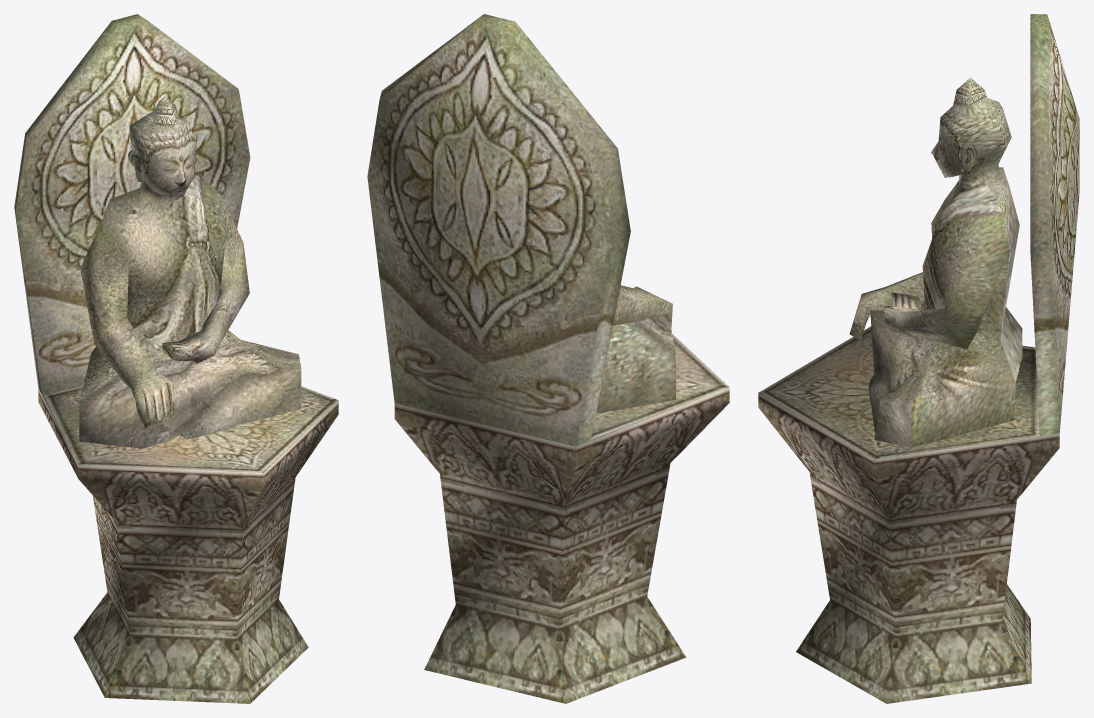
File: buddha.glb
3 views of the same model, side by side, from view 1: azimuth 30°, elevation 25°; view 2: azimuth 150°, elevation 25°; view 3: azimuth 270°, elevation 25° (orthographic). The views are drawn at different scales.
Visible parts, largest first — view 1: Mesh03; view 2: Mesh03; view 3: Mesh03.
Part boxes in pixels (box(x1,y1,x2,y2)): Mesh03: box(14, 14, 338, 703); Mesh03: box(367, 14, 729, 703); Mesh03: box(758, 14, 1079, 703).
Size of the model in its own units: 0.0548 by 0.1202 by 0.0557.
Materials: 3 (3 with a texture image).
